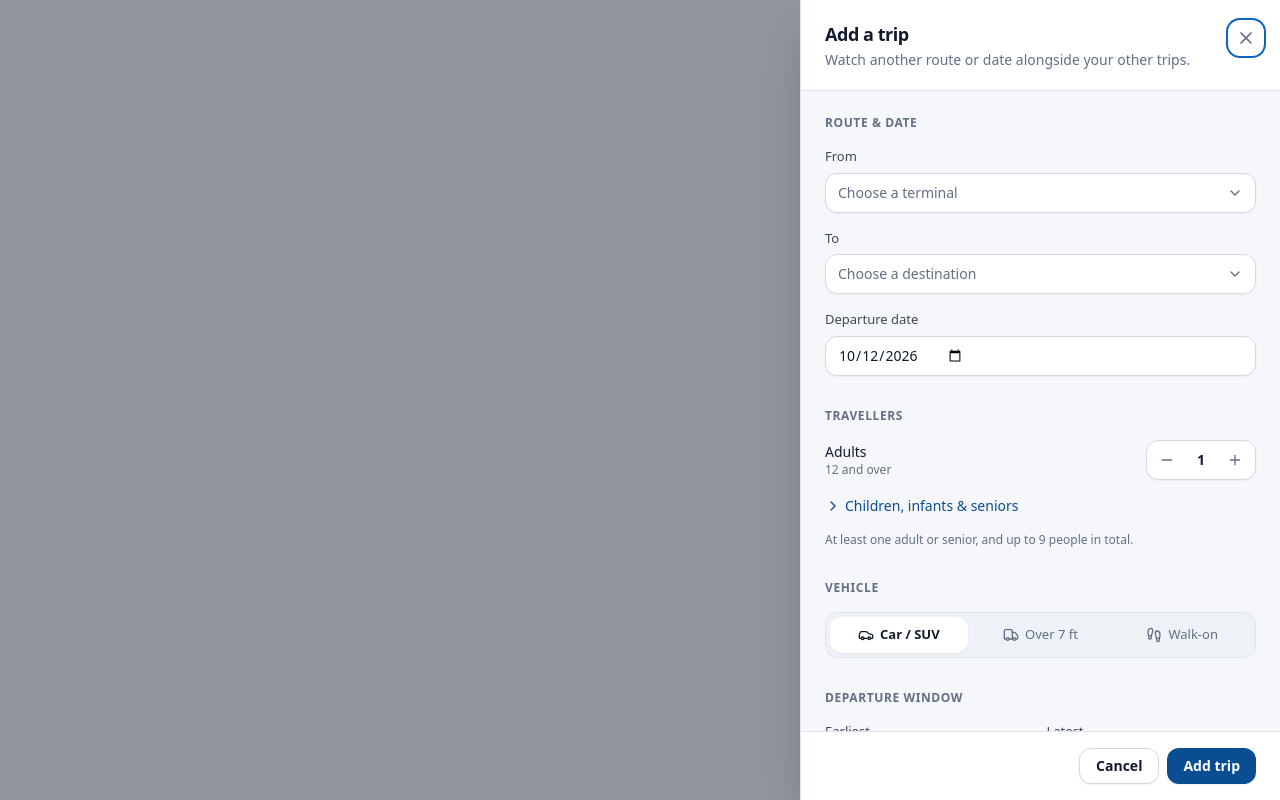
Test case: TripSheet › route › picks a destination when From is chosen on a blank trip, without an error
Click the dropdown named "From".
click(898, 192)  # box [825, 172, 1256, 212]
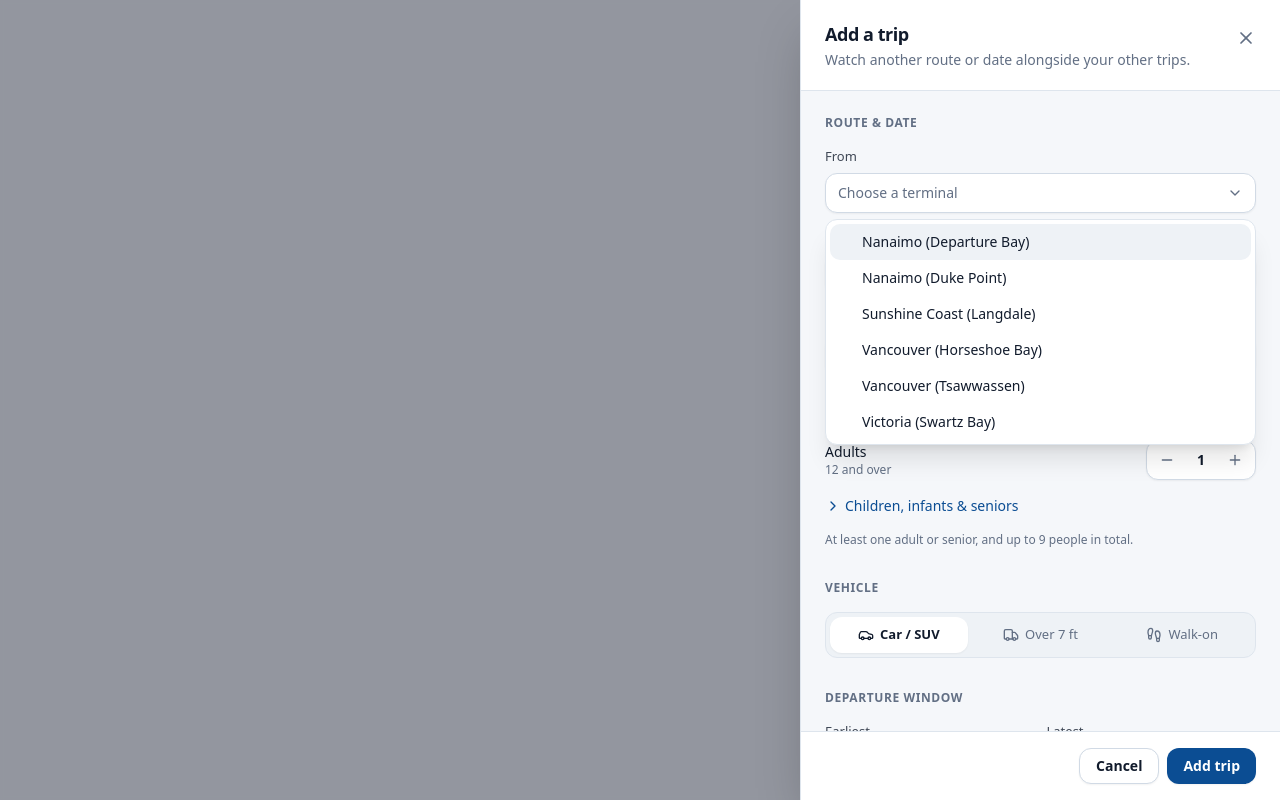
Click the option "Vancouver (Tsawwassen)".
click(943, 386)  # box [862, 376, 1025, 395]
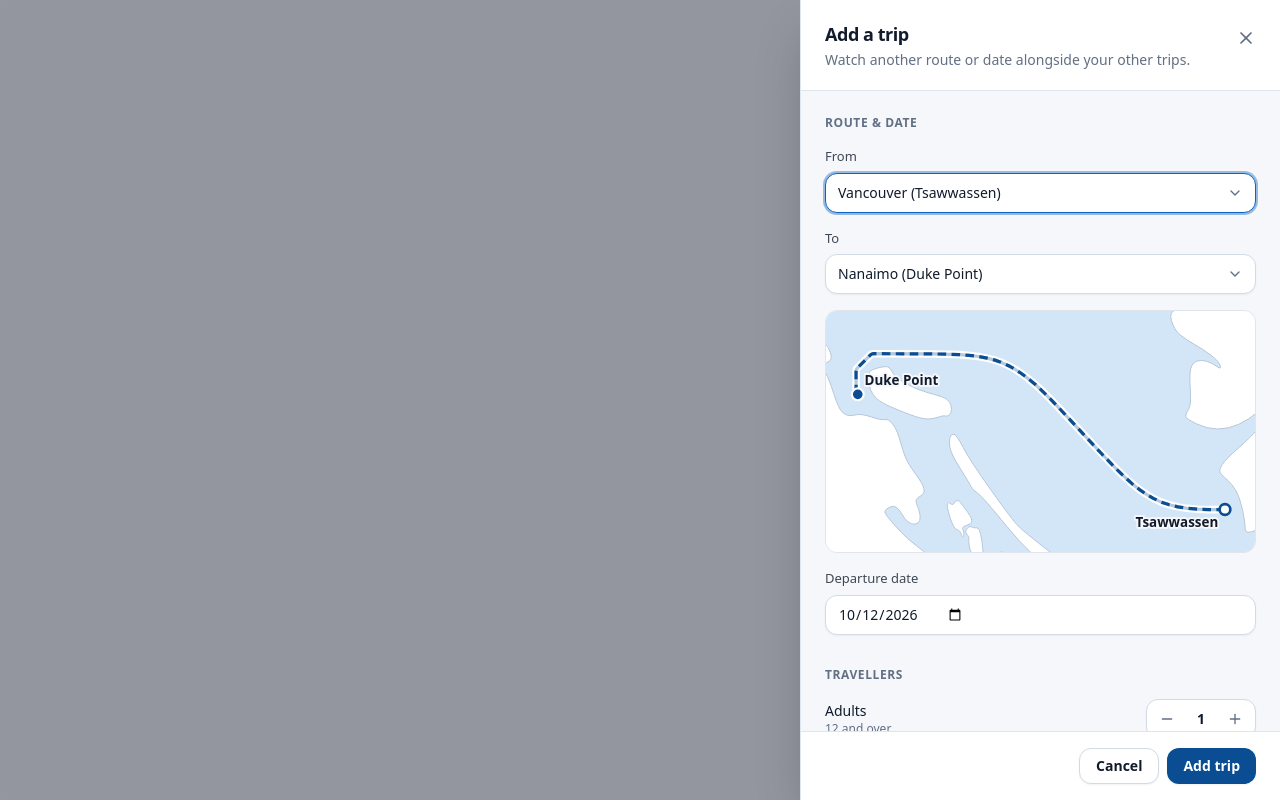
Expected: the dropdown named "To" reads "Nanaimo (Duke Point)", [825, 254, 1256, 294]
Expected: the text "Choose a destination." is gone
